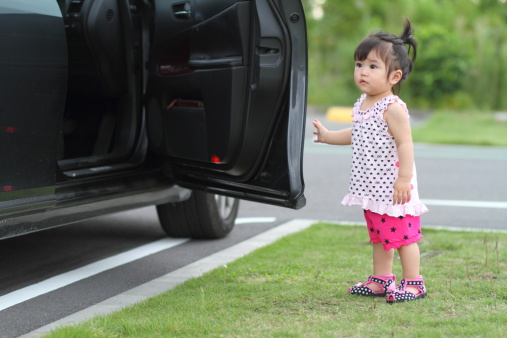em pe: (295, 39, 430, 286)
